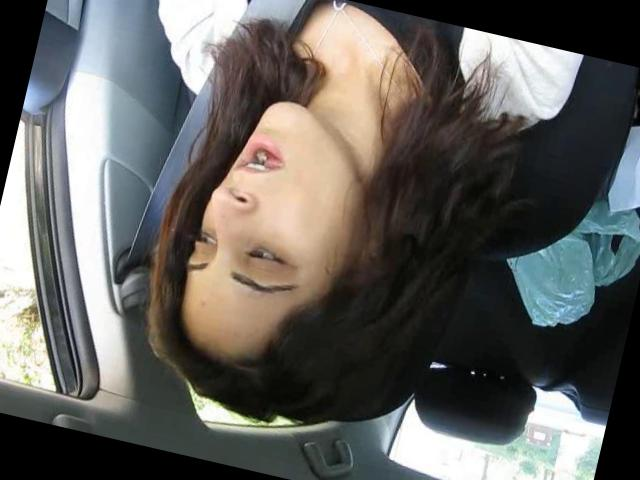eye_open: (236, 236, 292, 276), (186, 224, 219, 253)
face: (178, 85, 384, 339)
mouth_open: (228, 127, 295, 189)
